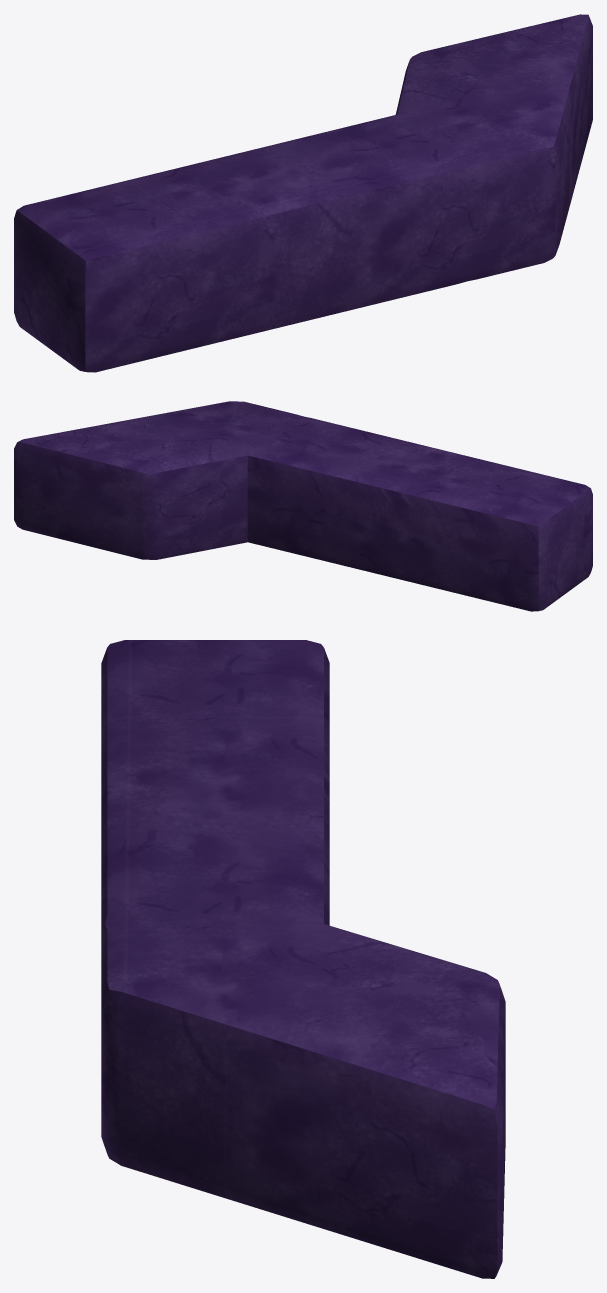
File: Skillshot_PinB_L_Asset_Low_hsr.fbx
3 views of the same model, one above another, from view 1: azimuth 30°, elevation 25°; view 2: azimuth 150°, elevation 25°; view 3: azimuth 270°, elevation 25° (orthographic). The views are drawn at different scales.
Parts seen in each view (by area): view 1: L_box; view 2: L_box; view 3: L_box.
Boxes of the visible parts, x1=… form: L_box: x1=14, y1=14, x2=592, y2=372; L_box: x1=14, y1=401, x2=592, y2=611; L_box: x1=101, y1=640, x2=505, y2=1278.
Size of the model in its own units: 94.94 by 17.3 by 34.34.
